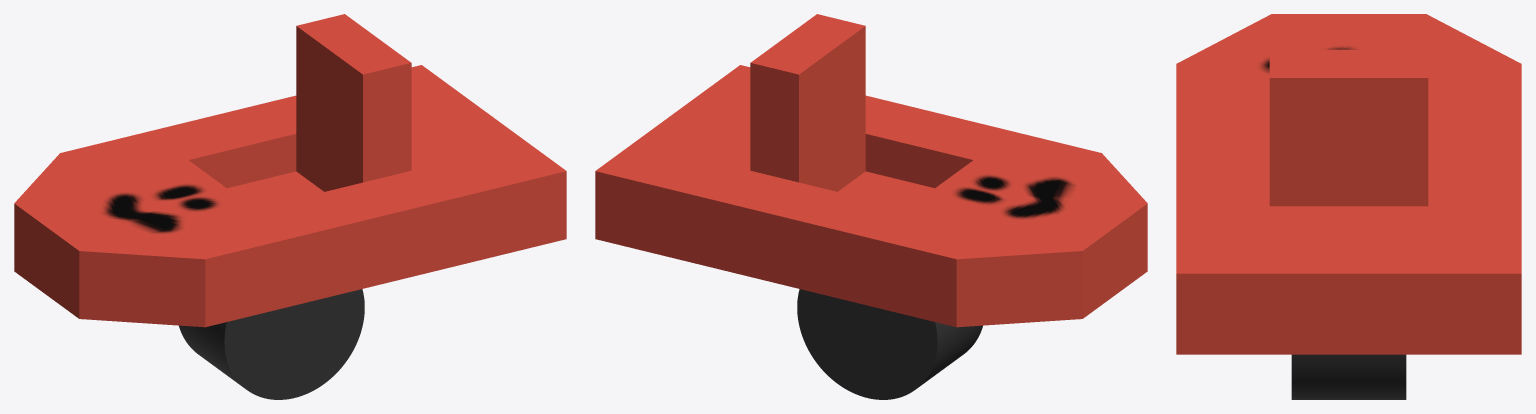
The model's file is sample.obj.
3 views of the same model, side by side, from view 1: azimuth 30°, elevation 25°; view 2: azimuth 150°, elevation 25°; view 3: azimuth 270°, elevation 25° (orthographic). The views are drawn at different scales.
Parts seen in each view (by area): view 1: Cube_Cube.002, ad_Cylinder.005, bd_Cylinder.004; view 2: Cube_Cube.002, as_Cylinder, bd_Cylinder.004, bs_Cylinder.003; view 3: Cube_Cube.002, ad_Cylinder.005, as_Cylinder.
Part boxes in pixels (x1=…): Cube_Cube.002: x1=14, y1=14, x2=566, y2=327; ad_Cylinder.005: x1=222, y1=289, x2=364, y2=399; bd_Cylinder.004: x1=191, y1=323, x2=242, y2=386; Cube_Cube.002: x1=595, y1=14, x2=1147, y2=327; as_Cylinder: x1=797, y1=289, x2=939, y2=399; bd_Cylinder.004: x1=932, y1=325, x2=981, y2=377; bs_Cylinder.003: x1=919, y1=323, x2=970, y2=386; Cube_Cube.002: x1=1176, y1=14, x2=1521, y2=354; ad_Cylinder.005: x1=1291, y1=354, x2=1366, y2=399; as_Cylinder: x1=1331, y1=354, x2=1406, y2=399.
Bounding box in the file's own units: 2.54 × 1.71 × 1.43.
Materials: 2 (1 with a texture image).
